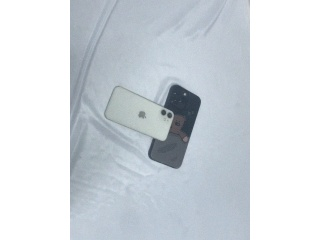phone: (145, 83, 202, 170), (104, 85, 175, 141)
